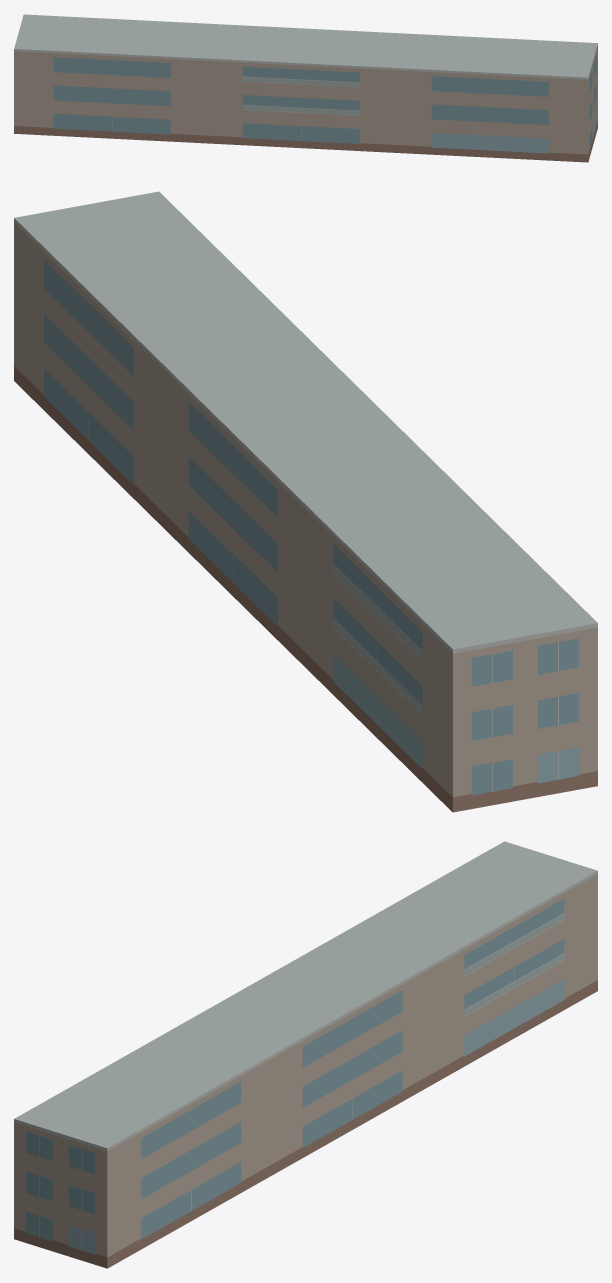
Rendered from residential-6db26132-c335-497f-a9de-a15cfeaf7073.glb.
3 views of the same model, one above another, from view 1: azimuth 30°, elevation 25°; view 2: azimuth 150°, elevation 25°; view 3: azimuth 270°, elevation 25° (orthographic). The views are drawn at different scales.
Parts seen in each view (by area): view 1: residential-6db26132-c335-497f-a9de-a15cfeaf7073.tmp; view 2: residential-6db26132-c335-497f-a9de-a15cfeaf7073.tmp; view 3: residential-6db26132-c335-497f-a9de-a15cfeaf7073.tmp.
Boxes of the visible parts, bbox=[...] form: residential-6db26132-c335-497f-a9de-a15cfeaf7073.tmp: bbox=[14, 14, 597, 162]; residential-6db26132-c335-497f-a9de-a15cfeaf7073.tmp: bbox=[14, 191, 597, 812]; residential-6db26132-c335-497f-a9de-a15cfeaf7073.tmp: bbox=[14, 841, 597, 1268].
Size of the model in its own units: 50.08 by 9.15 by 40.25.
